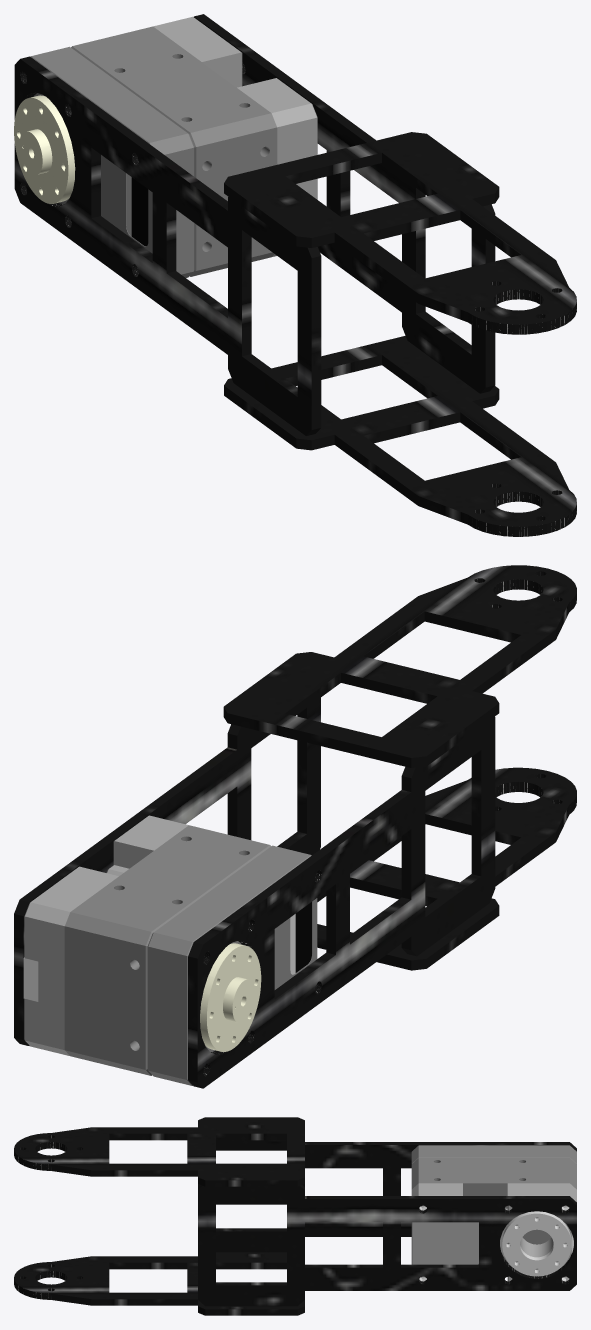
The model's file is link2_rotated.dae.
The picture shows the model from 3 angles, top to bottom: view 1: azimuth 30°, elevation 25°; view 2: azimuth 150°, elevation 25°; view 3: azimuth 270°, elevation 25°; orthographic projection. The views are drawn at different scales.
Parts seen in each view (by area): view 1: mesh_1_manipulator_link3_30-4; view 2: mesh_1_manipulator_link3_30-4; view 3: mesh_1_manipulator_link3_30-4.
Boxes of the visible parts, box(x1,y1,x2,y2) form: mesh_1_manipulator_link3_30-4: box(14, 14, 576, 536); mesh_1_manipulator_link3_30-4: box(14, 565, 576, 1088); mesh_1_manipulator_link3_30-4: box(14, 1117, 576, 1315).
Size of the model in its own units: 0.043 by 0.1582 by 0.042.
Materials: 7 (1 with a texture image).
